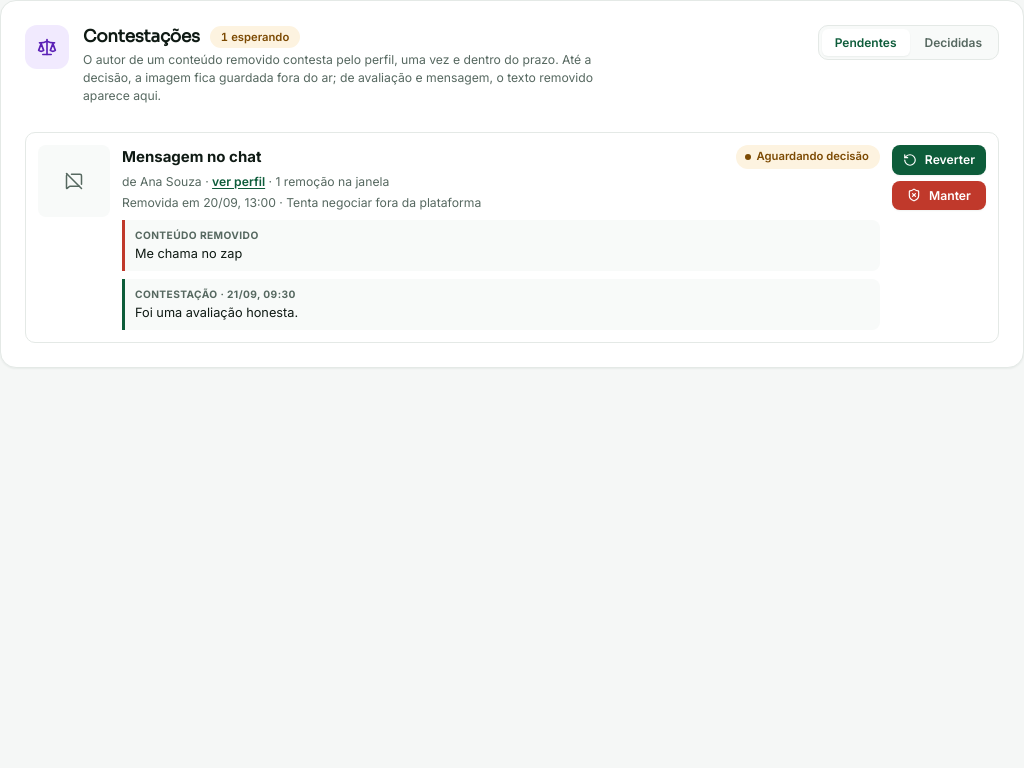
Scenario: AppealsSection: a decisão › reverter mensagem: fala do chat; se o conteúdo não pôde voltar, o aviso explica por quê
Expected: the text "Mensagem no chat" is shown, [122,146,262,168]
Click the button "Reverter" at (939, 160), box [892,145,986,174]
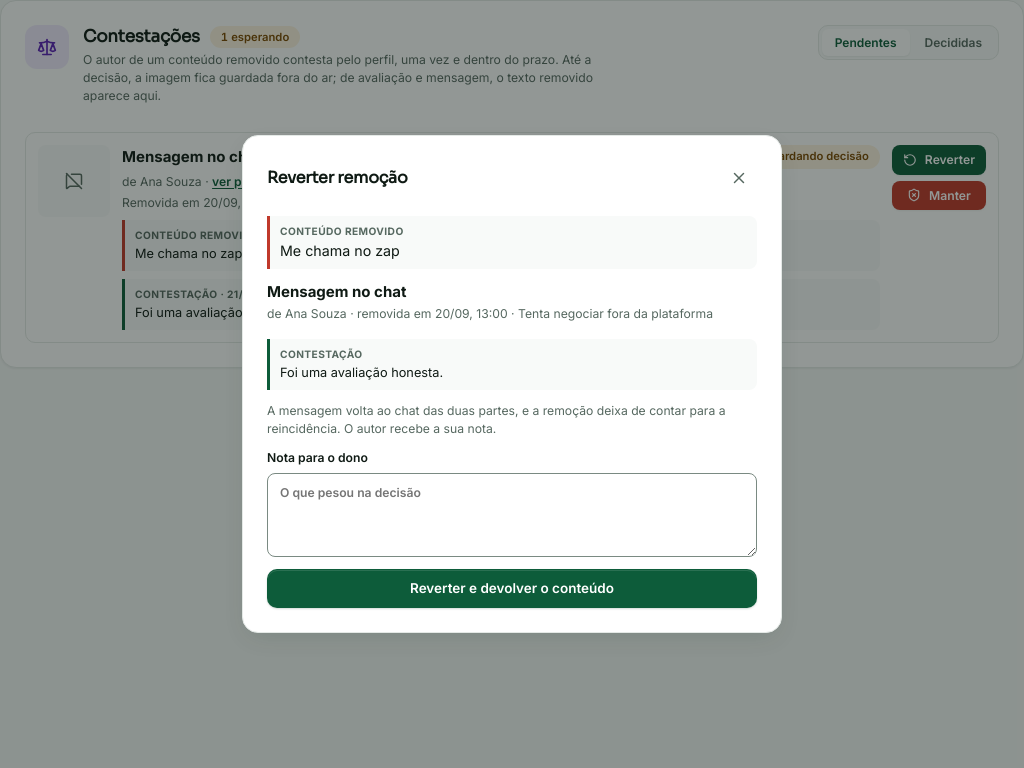
Result: the text "A mensagem volta ao chat das duas partes, e a remoção deixa de contar para a reincidência. O autor recebe a sua nota." is shown at [267,403,726,436]
Click the button "Reverter e devolver o conteúdo" at (512, 589), box [267,569,757,608]
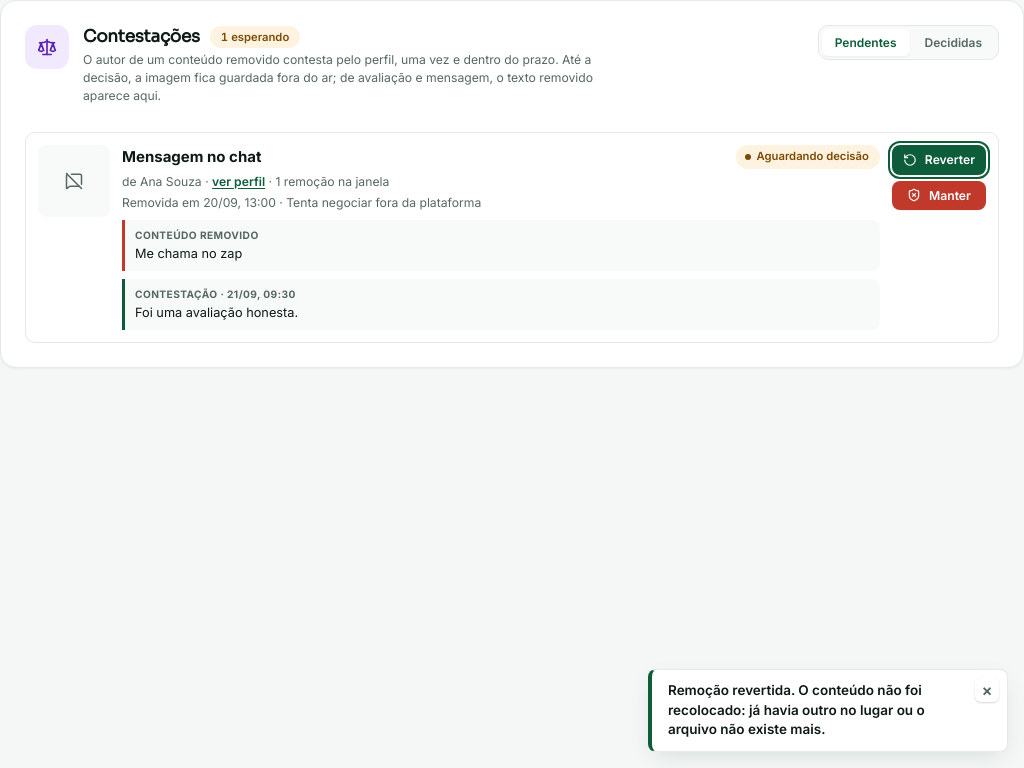
Result: the text "Remoção revertida. O conteúdo não foi recolocado: já havia outro no lugar ou o arquivo não existe mais." is shown at [668,682,925,737]
